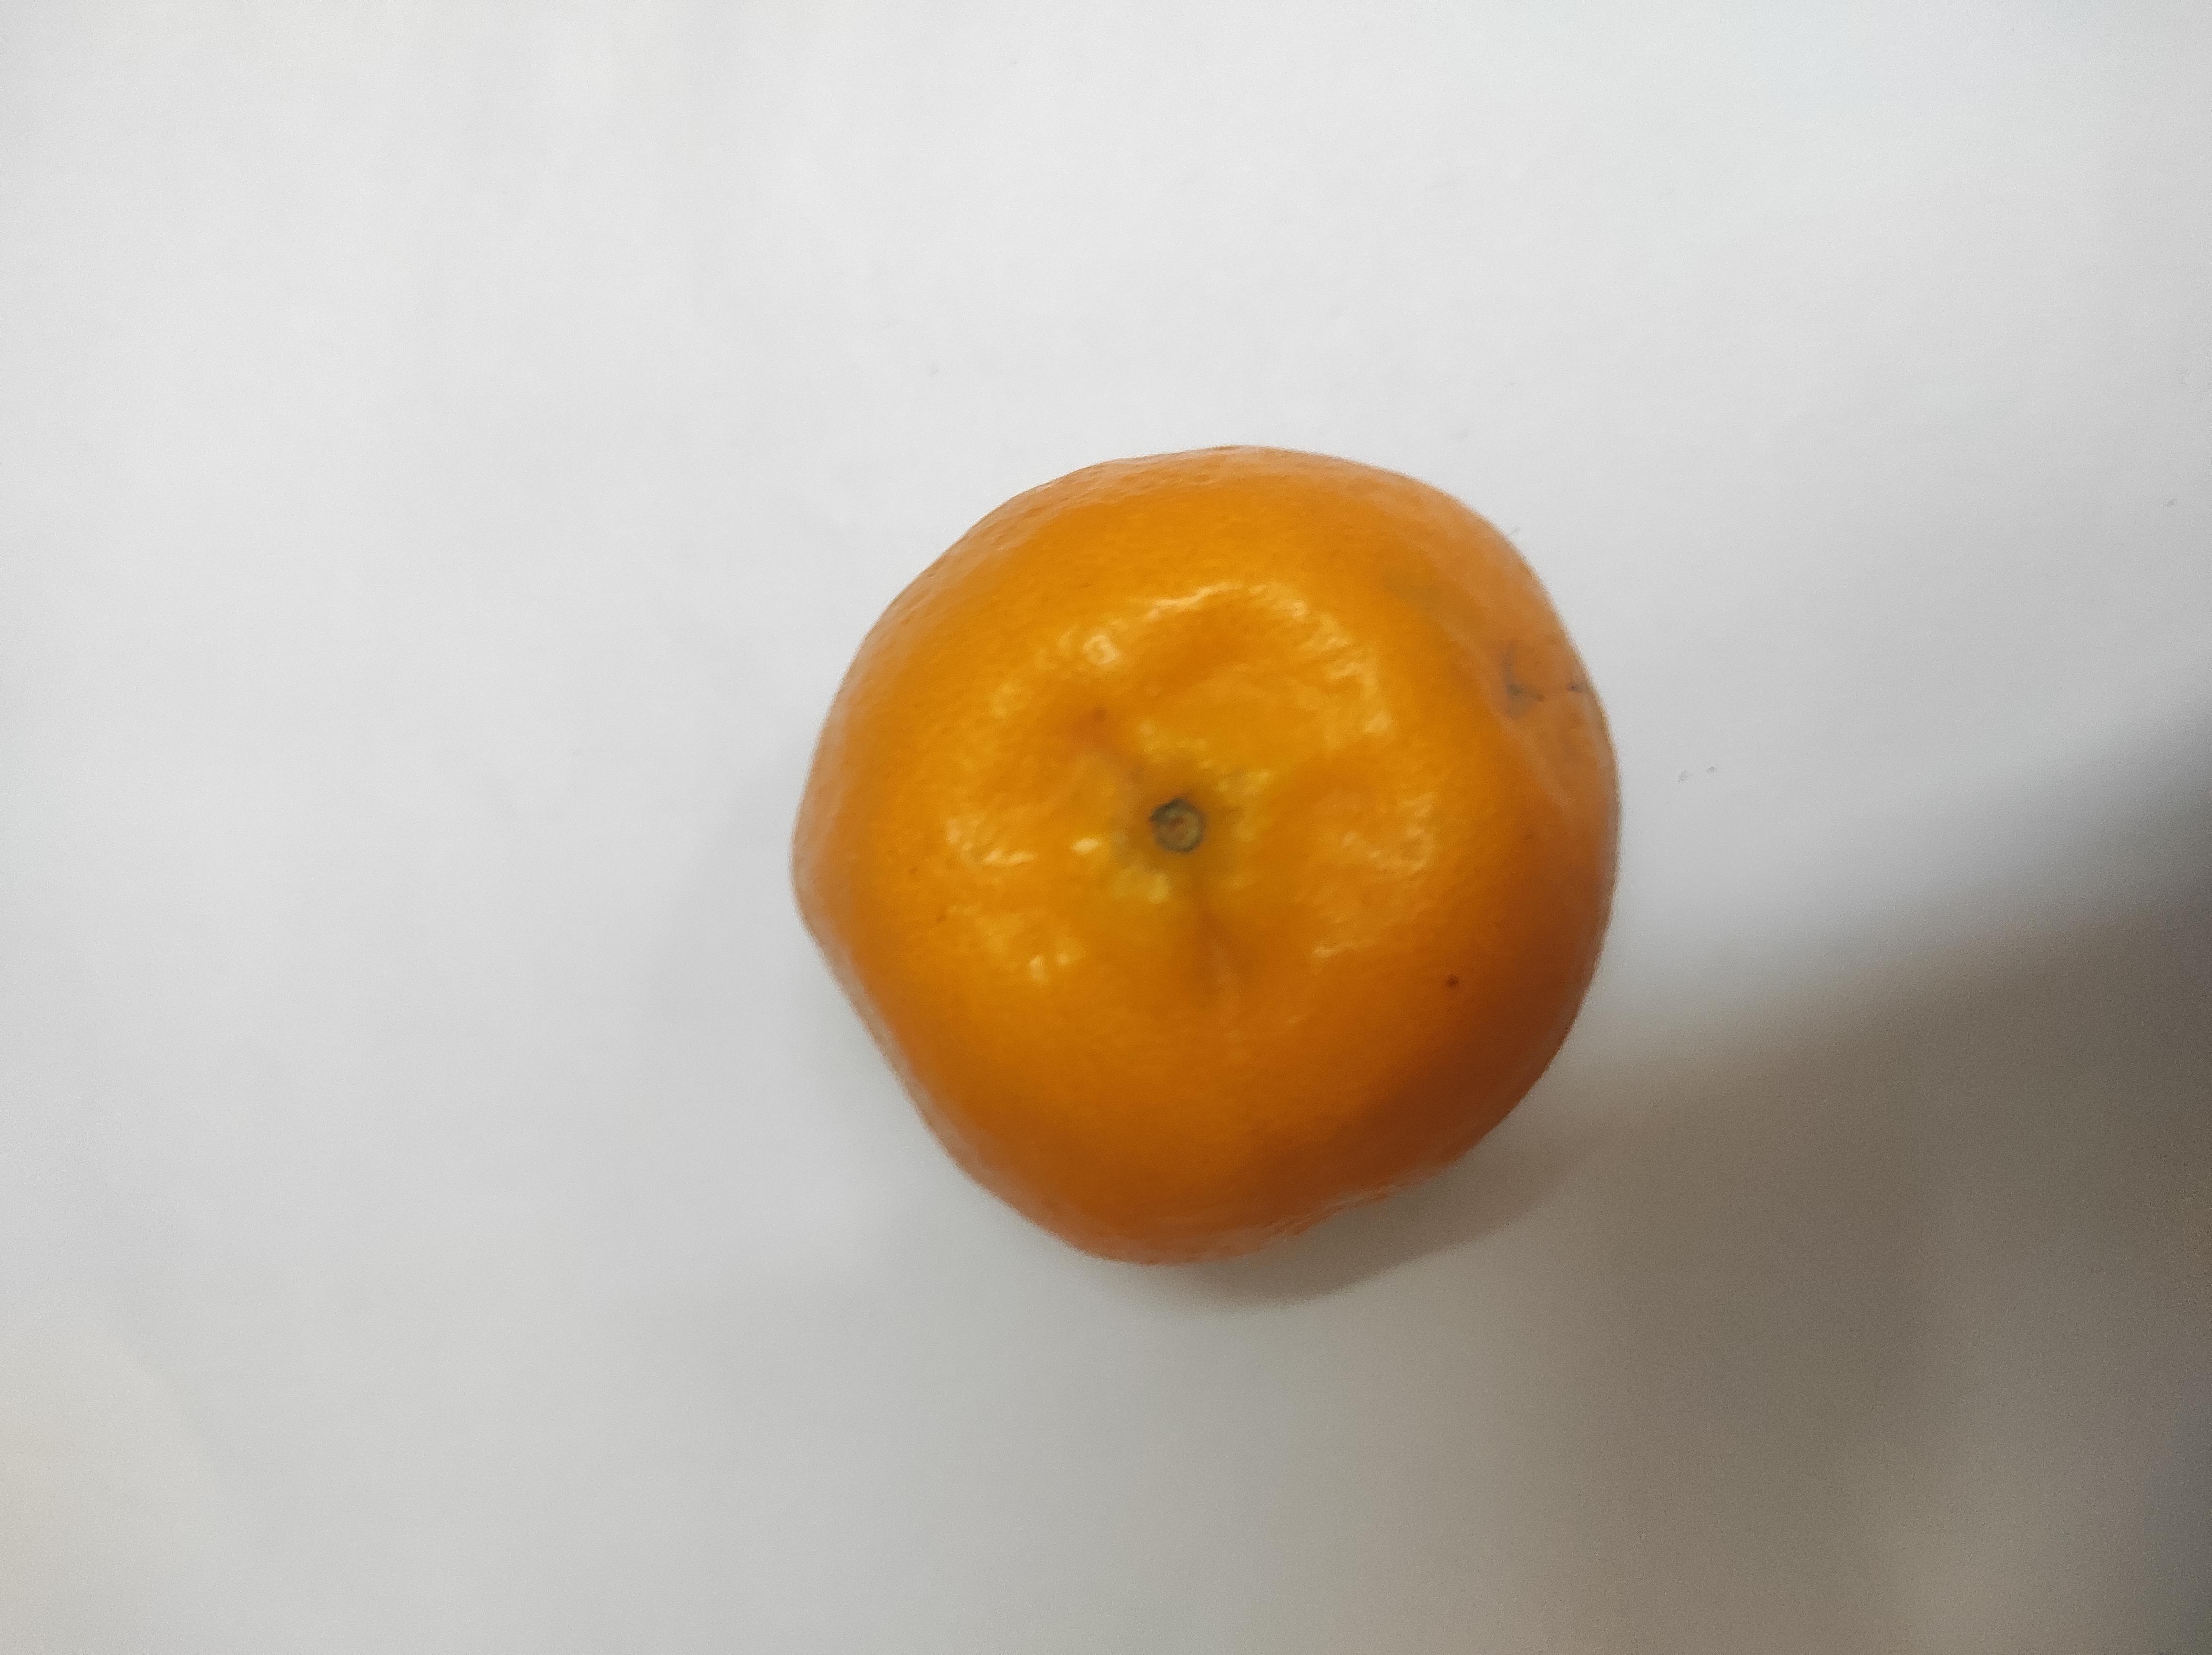Ripe: (796, 452, 1621, 1267)
